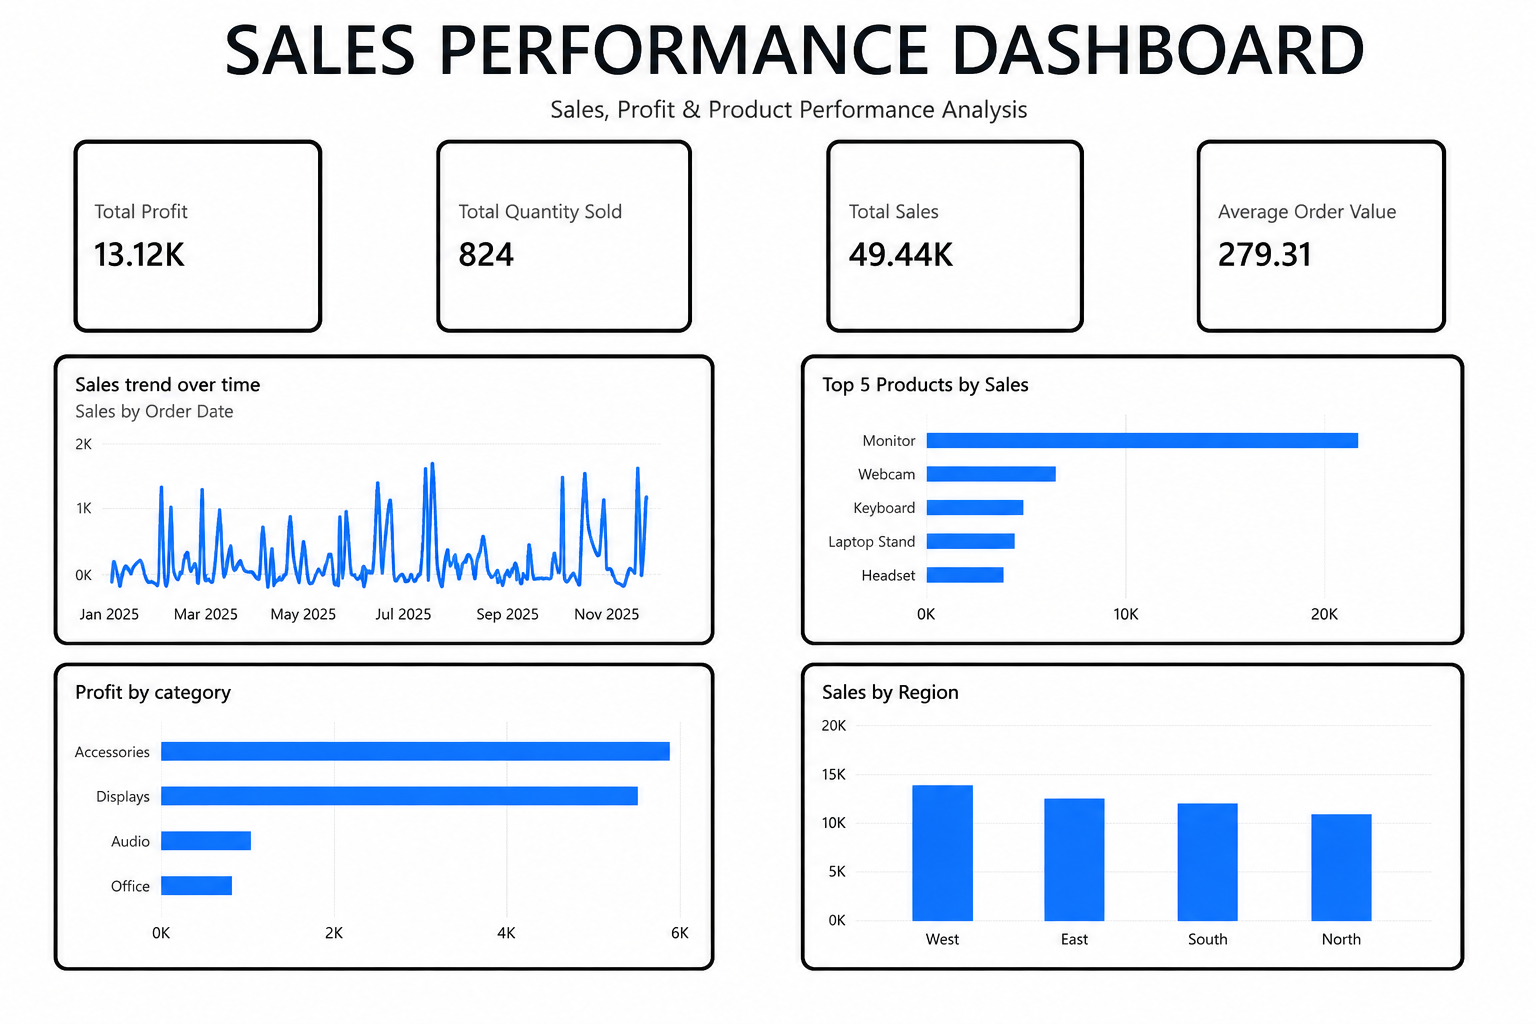

Layout of this report page (visuals, bound fields, positions):
{"tool":"powerbi","page":{"name":"Page 1","canvas":[1920,1080],"ordinal":0},"visuals":[{"type":"cardVisual","fields":{"Data":["Sum(Sheet1.Sales)"]},"box":[1025,177,280,280],"z":0},{"type":"cardVisual","fields":{"Data":["Sum(Sheet1.Profit)"]},"box":[65.9,177,279.9,279.9],"z":1000},{"type":"cardVisual","fields":{"Data":["Sum(Sheet1.Quantity)"]},"box":[491.9,177,280,280],"z":2000},{"type":"cardVisual","fields":{"Data":["Sheet1.Average Order Value"]},"box":[1479.9,177,280,280],"z":3000},{"type":"lineChart","title":"Sales trend over time","fields":{"Category":["Sheet1.Order Date"],"Y":["Sum(Sheet1.Sales)"]},"box":[20.6,485.8,594.9,288.2],"z":4000},{"type":"clusteredBarChart","title":"Profit by category","fields":{"Category":["Sheet1.Category"],"Y":["Sum(Sheet1.Profit)"]},"box":[20.6,792.5,594.9,288.2],"z":5000},{"type":"clusteredColumnChart","title":"Sales by Region","fields":{"Category":["Sheet1.Region"],"Y":["Sum(Sheet1.Sales)"]},"box":[1165,792.5,594.9,288.2],"z":6000},{"type":"clusteredBarChart","title":"Top 5 Products by Sales","fields":{"Category":["Sheet1.Product"],"Y":["Sum(Sheet1.Sales)"]},"box":[1165,485.8,594.9,288.2],"z":7000},{"type":"textbox","box":[2.1,0,1918.4,156.4],"z":8000}]}

Visuals, with their boxes on the page's 1920x1080 design canvas (x1, y1, x2, y2). These are canvas units, not pixel positions in the 1536x1024 screenshot, which may show the page scaled, cropped or inside an application window:
cardVisual - Sum(Sheet1.Sales): 1025:177:1305:457
cardVisual - Sum(Sheet1.Profit): 66:177:346:457
cardVisual - Sum(Sheet1.Quantity): 492:177:772:457
cardVisual - Sheet1.Average Order Value: 1480:177:1760:457
"Sales trend over time" lineChart: 21:486:616:774
"Profit by category" clusteredBarChart: 21:792:616:1081
"Sales by Region" clusteredColumnChart: 1165:792:1760:1081
"Top 5 Products by Sales" clusteredBarChart: 1165:486:1760:774
textbox: 2:0:1920:156
